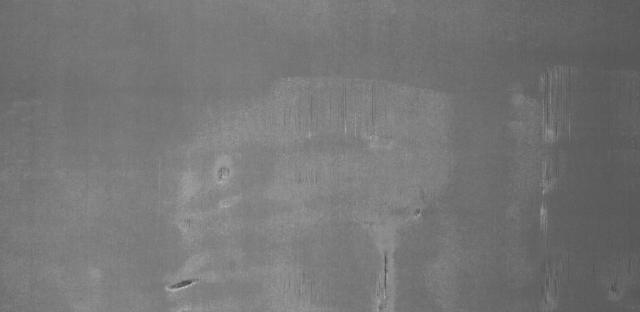rolled_pit: (148, 259, 216, 298)
